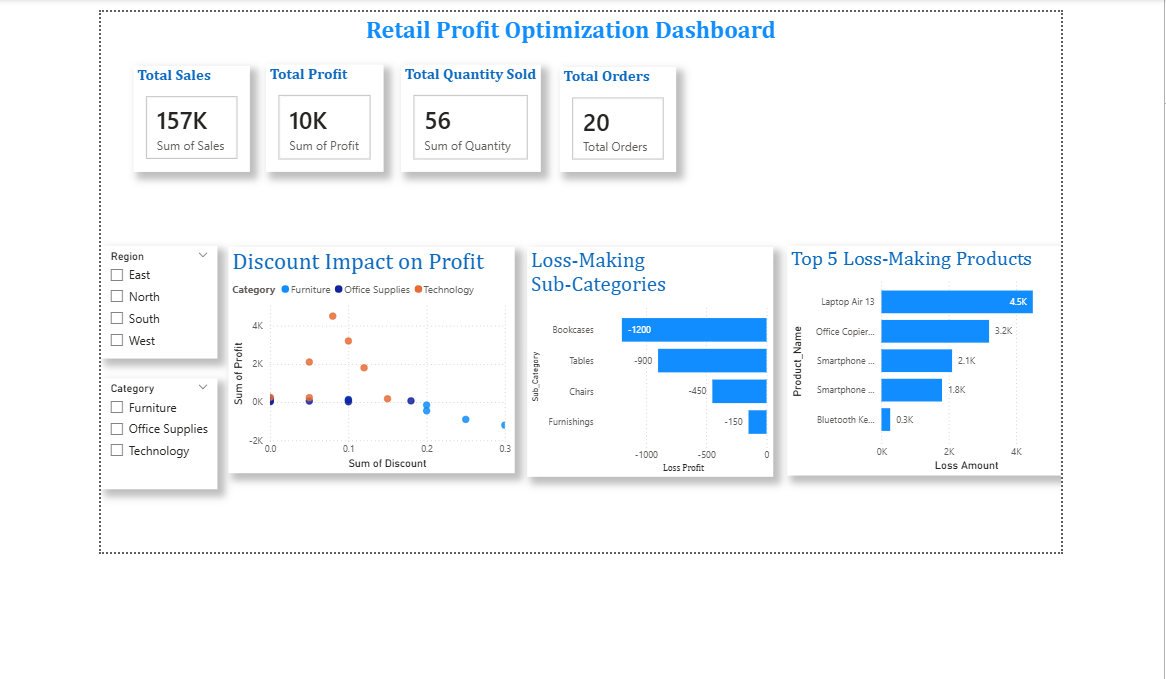

The dashboard page shown, as its layout file describes it:
{"tool":"powerbi","page":{"name":"Dashboard","canvas":[1280,720],"ordinal":0},"visuals":[{"type":"textbox","box":[348.5,0,599.7,85.1],"z":0},{"type":"cardVisual","title":"Total Sales","fields":{"Data":["Sum(clean_orders.Sales)"]},"box":[43.3,71.7,155,141.7],"z":1},{"type":"cardVisual","title":"Total Profit","fields":{"Data":["Sum(clean_orders.Profit)"]},"box":[220,70,156.7,143.3],"z":2},{"type":"cardVisual","title":"Total Quantity Sold","fields":{"Data":["Sum(clean_orders.Quantity)"]},"box":[400,70,186.7,143.3],"z":4},{"type":"cardVisual","title":"Total Orders","fields":{"Data":["clean_orders.Total Orders"]},"box":[611.7,73.3,155,140],"z":5},{"type":"slicer","fields":{"Values":["clean_orders.Category"]},"box":[0,488.3,155,148.3],"z":7},{"type":"slicer","fields":{"Values":["clean_orders.Region"]},"box":[0,311.7,155,150],"z":8},{"type":"scatterChart","title":"Discount Impact on Profit","fields":{"X":["Sum(clean_orders.Discount)"],"Y":["Sum(clean_orders.Profit)"],"Series":["clean_orders.Category"],"Category":["clean_orders.Sales"]},"box":[170,313.3,381.7,301.7],"z":9},{"type":"clusteredBarChart","title":"Loss-Making Sub-Categories","fields":{"Category":["clean_orders.Sub_Category"],"Y":["Sum(clean_orders.Profit)"]},"box":[568.3,313.3,328.3,306.7],"z":10},{"type":"clusteredBarChart","title":"Top 5 Loss-Making Products","fields":{"Category":["clean_orders.Product_Name"],"Y":["Sum(clean_orders.Profit)"]},"box":[915,311.7,365,306.7],"z":11}]}

Visuals, with their boxes on the page's 1280x720 design canvas (x1, y1, x2, y2). These are canvas units, not pixel positions in the 1166x679 screenshot, which may show the page scaled, cropped or inside an application window:
textbox: [x1=348, y1=0, x2=948, y2=85]
"Total Sales" cardVisual: [x1=43, y1=72, x2=198, y2=213]
"Total Profit" cardVisual: [x1=220, y1=70, x2=377, y2=213]
"Total Quantity Sold" cardVisual: [x1=400, y1=70, x2=587, y2=213]
"Total Orders" cardVisual: [x1=612, y1=73, x2=767, y2=213]
slicer - clean_orders.Category: [x1=0, y1=488, x2=155, y2=637]
slicer - clean_orders.Region: [x1=0, y1=312, x2=155, y2=462]
"Discount Impact on Profit" scatterChart: [x1=170, y1=313, x2=552, y2=615]
"Loss-Making Sub-Categories" clusteredBarChart: [x1=568, y1=313, x2=897, y2=620]
"Top 5 Loss-Making Products" clusteredBarChart: [x1=915, y1=312, x2=1280, y2=618]
